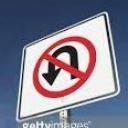NoVirarU: (32, 33, 100, 100)
